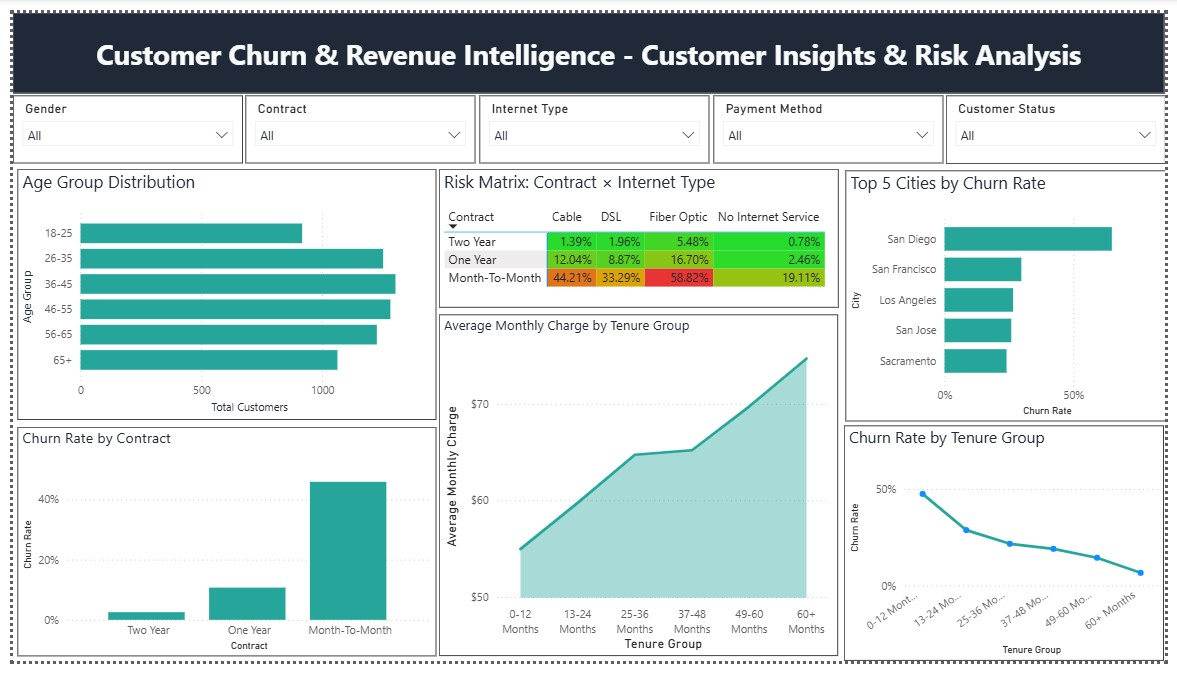

This screenshot's page, from the dashboard's own definition file:
{"tool":"powerbi","page":{"name":"Customer_Behavior&Risk_Analysis","canvas":[1280,720],"ordinal":1},"visuals":[{"type":"shape","box":[0,0,1280,90],"z":0},{"type":"slicer","fields":{"Values":["Table1_1.Gender"]},"box":[0,91.7,255,75],"z":1000},{"type":"slicer","fields":{"Values":["Table1_1.Contract"]},"box":[259,91,255,75],"z":2000},{"type":"slicer","fields":{"Values":["Table1_1.Internet Type"]},"box":[518.6,91,255,75],"z":3000},{"type":"slicer","fields":{"Values":["Table1_1.Payment Method"]},"box":[777.6,91,255,75],"z":4000},{"type":"slicer","fields":{"Values":["Table1_1.Customer Status"]},"box":[1036.2,91,243.8,75.7],"z":5000},{"type":"clusteredBarChart","title":"Age Group Distribution","fields":{"Category":["Table1_1.Age Group"],"Y":["Table1_1.Total Customers"]},"box":[4.7,174,465,278.3],"z":5001},{"type":"columnChart","fields":{"Category":["Table1_1.Contract"],"Y":["Table1_1.Churn Rate"]},"box":[4.6,459.2,465.4,254.6],"z":5002},{"type":"lineChart","title":"Churn Rate by Tenure Group","fields":{"Category":["Table1_1.Tenure Group"],"Y":["Table1_1.Churn Rate"]},"box":[923.8,458.8,355,261.2],"z":5003},{"type":"clusteredBarChart","title":"Top 5 Cities by Churn Rate","fields":{"Category":["Table1_1.City"],"Y":["Table1_1.Churn Rate"]},"box":[924.3,174.3,357.1,278.6],"z":5004},{"type":"pivotTable","title":"Risk Matrix: Contract × Internet Type","fields":{"Rows":["Table1_1.Contract"],"Columns":["Table1_1.Internet Type"],"Values":["Table1_1.Churn Rate"]},"box":[474,174,444,154],"z":5005},{"type":"areaChart","title":"Average Monthly Charge by Tenure Group","fields":{"Category":["Table1_1.Tenure Group"],"Y":["Table1_1.Average Monthly Charge"]},"box":[473.6,334.5,443.6,379.1],"z":5006}]}

Visuals, with their boxes in screenshot pixels (x1, y1, x2, y2), scaled from the page's 1280x720 canvas onto the 1177x673 screenshot:
shape: {"x1": 0, "y1": 0, "x2": 1176, "y2": 84}
slicer - Table1_1.Gender: {"x1": 0, "y1": 86, "x2": 234, "y2": 156}
slicer - Table1_1.Contract: {"x1": 238, "y1": 85, "x2": 473, "y2": 155}
slicer - Table1_1.Internet Type: {"x1": 477, "y1": 85, "x2": 711, "y2": 155}
slicer - Table1_1.Payment Method: {"x1": 715, "y1": 85, "x2": 950, "y2": 155}
slicer - Table1_1.Customer Status: {"x1": 953, "y1": 85, "x2": 1176, "y2": 156}
"Age Group Distribution" clusteredBarChart: {"x1": 4, "y1": 163, "x2": 432, "y2": 423}
columnChart - Table1_1.Contract x Table1_1.Churn Rate: {"x1": 4, "y1": 429, "x2": 432, "y2": 667}
"Churn Rate by Tenure Group" lineChart: {"x1": 849, "y1": 429, "x2": 1176, "y2": 672}
"Top 5 Cities by Churn Rate" clusteredBarChart: {"x1": 850, "y1": 163, "x2": 1176, "y2": 423}
"Risk Matrix: Contract × Internet Type" pivotTable: {"x1": 436, "y1": 163, "x2": 844, "y2": 307}
"Average Monthly Charge by Tenure Group" areaChart: {"x1": 435, "y1": 313, "x2": 843, "y2": 667}
